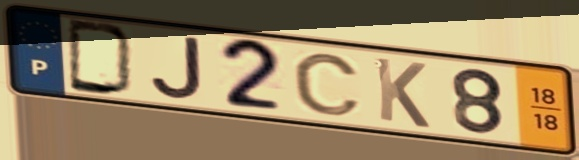2: (213, 37, 292, 117)
8: (448, 65, 508, 137)
C: (289, 51, 365, 118)
D: (64, 16, 139, 99)
J: (148, 35, 207, 102)
K: (371, 54, 433, 131)
